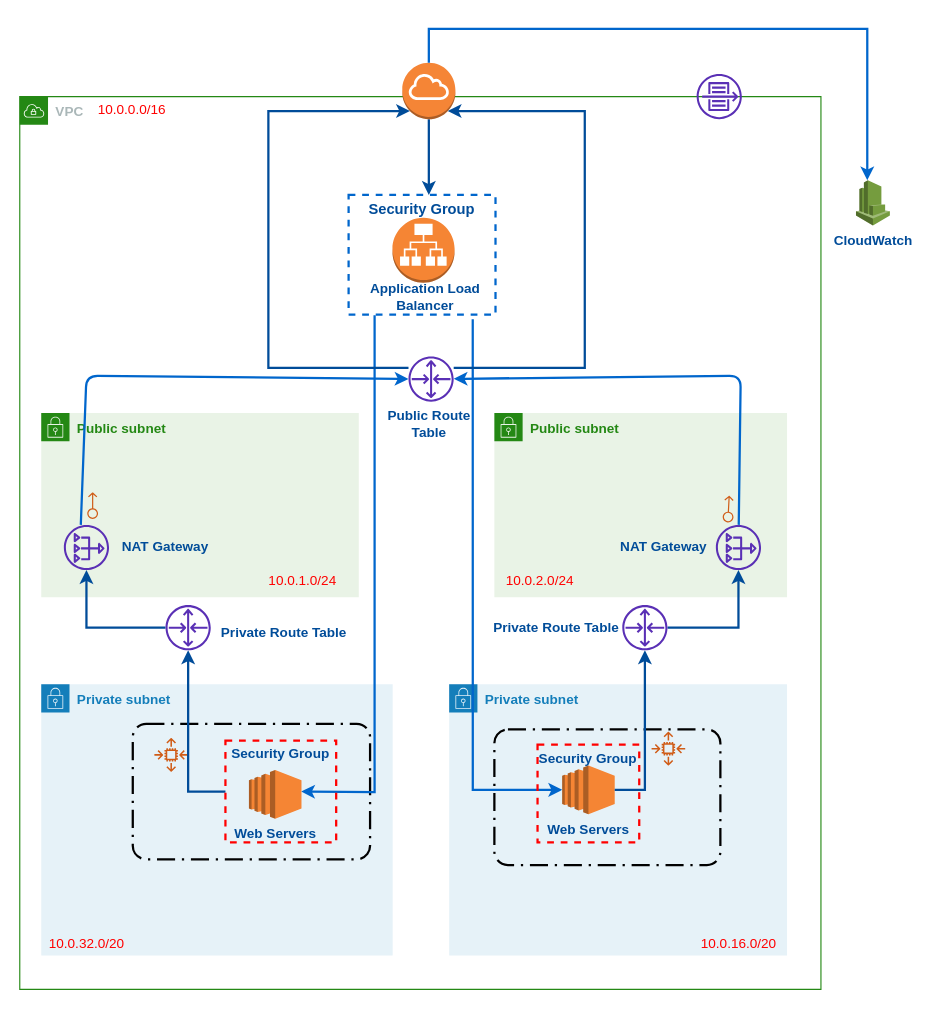
This 932x1009 diagram has some shape labels left out. The shapes that lost their labels are listed below. From the top down, each one's centre as x and y in pixels, then its label:
At point (428, 90): "Internet Gateway".
At point (718, 96): "VPC Flow Logs".
